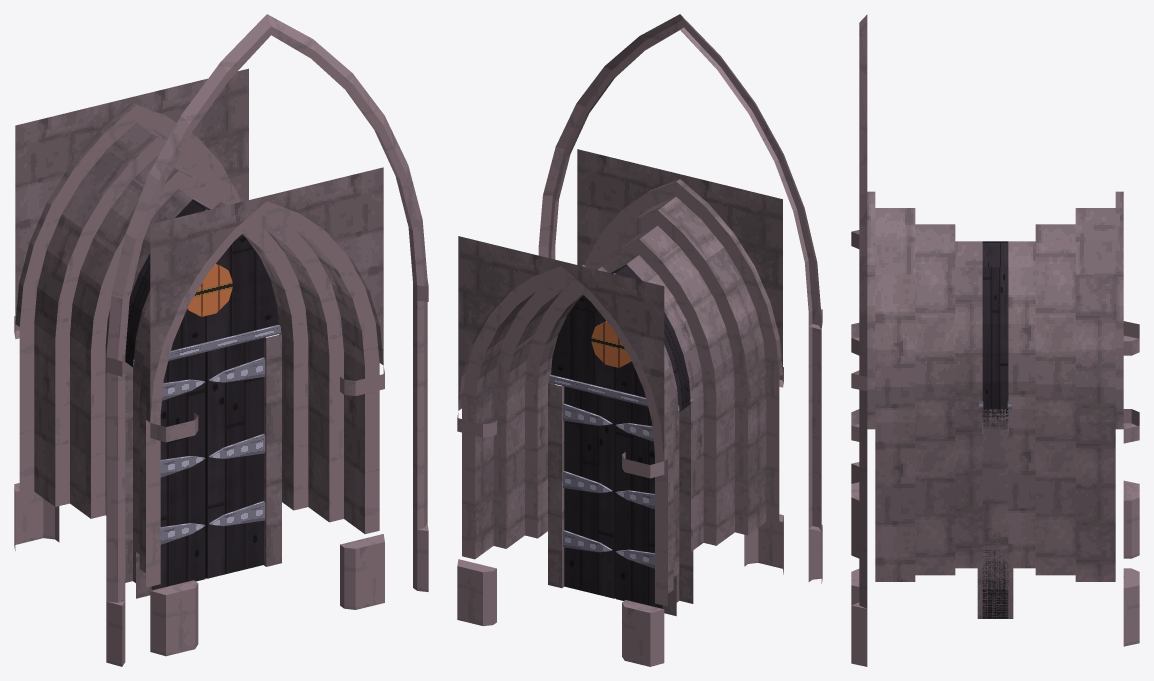
The model's file is door_bosshoch_b.glb.
The picture shows the model from 3 angles, left to right: view 1: azimuth 30°, elevation 25°; view 2: azimuth 150°, elevation 25°; view 3: azimuth 270°, elevation 25°; orthographic projection. The views are drawn at different scales.
Parts seen in each view (by area): view 1: portal_front, portal_back, leaf_a, leaf_b, portal; view 2: portal_front, portal_back, leaf_a, portal, leaf_b; view 3: portal_front, portal_back, portal, leaf_a.
Part boxes in pixels (box(x1,y1,x2,y2)): portal_front: box(106, 14, 428, 666); portal_back: box(14, 68, 248, 582); leaf_a: box(205, 338, 265, 578); leaf_b: box(135, 352, 205, 590); portal: box(125, 199, 281, 367); portal_front: box(538, 14, 822, 603); portal_back: box(457, 236, 679, 666); leaf_a: box(563, 386, 615, 598); portal: box(548, 264, 692, 412); leaf_b: box(615, 399, 662, 608); portal_front: box(851, 14, 995, 666); portal_back: box(995, 191, 1139, 646); portal: box(979, 241, 1011, 408); leaf_a: box(982, 409, 1008, 618).
Bounding box in the file's own units: 2.75 × 4.99 × 2.25.
Materials: 1 (1 with a texture image).
